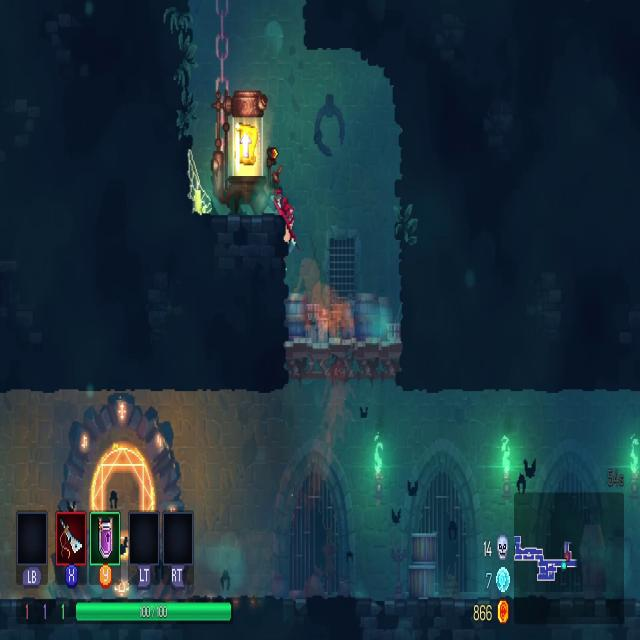agents: (268, 146, 296, 252)
wood_floor: (286, 329, 404, 380)
